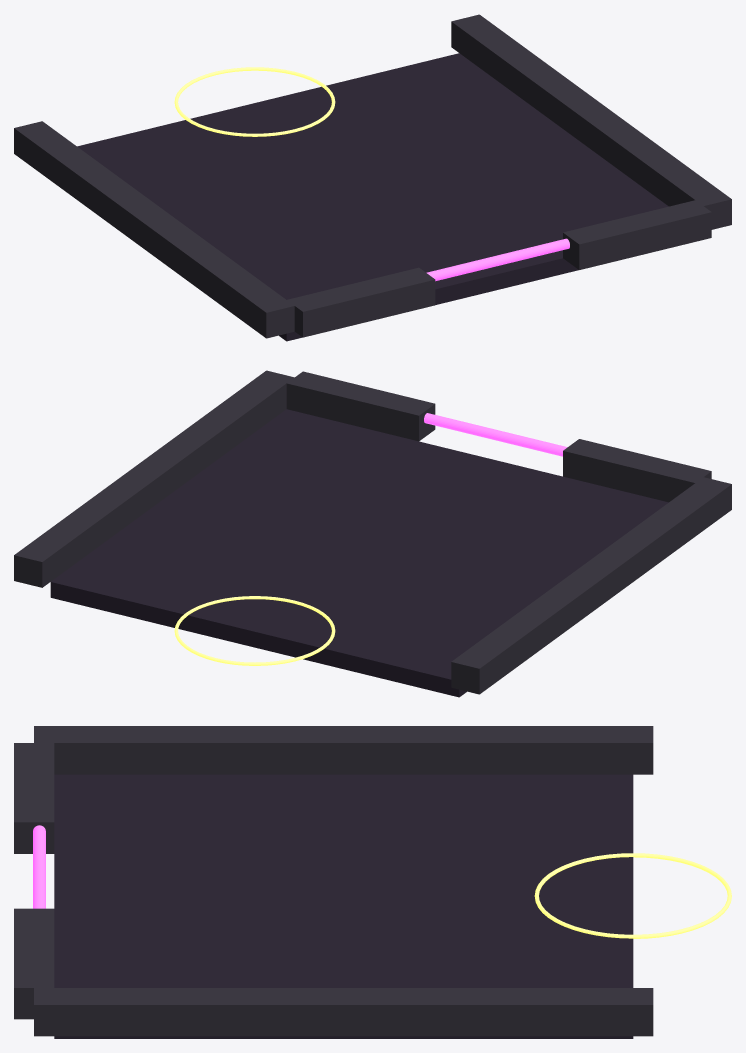
Rendered from mesa_kiara_cat_half_p1.glb.
3 renders of one model, top to bottom at view 1: azimuth 30°, elevation 25°; view 2: azimuth 150°, elevation 25°; view 3: azimuth 270°, elevation 25°, orthographic. The views are drawn at different scales.
Parts seen in each view (by area): view 1: mesa_kiara_cat_half_p1_Surface, Cube, Cube.002, Cube.005, Cube.004, Cylinder, Torus; view 2: mesa_kiara_cat_half_p1_Surface, Cube, Cube.002, Cube.005, Cube.004, Cylinder, Torus; view 3: mesa_kiara_cat_half_p1_Surface, Cube.002, Cube, Cube.004, Cube.005, Torus, Cylinder.
Boxes of the visible parts, <box> form: mesa_kiara_cat_half_p1_Surface: <box>77,53,668,341</box>; Cube: <box>14,121,294,338</box>; Cube.002: <box>451,14,731,229</box>; Cube.005: <box>563,200,711,269</box>; Cube.004: <box>287,267,435,337</box>; Cylinder: <box>426,238,569,281</box>; Torus: <box>174,67,335,136</box>; mesa_kiara_cat_half_p1_Surface: <box>50,409,668,697</box>; Cube: <box>451,477,731,694</box>; Cube.002: <box>14,370,294,587</box>; Cube.005: <box>286,371,435,441</box>; Cube.004: <box>563,439,711,502</box>; Cylinder: <box>424,413,567,456</box>; Torus: <box>174,596,335,665</box>; mesa_kiara_cat_half_p1_Surface: <box>54,774,633,1038</box>; Cube.002: <box>34,988,653,1036</box>; Cube: <box>34,726,653,774</box>; Cube.004: <box>14,743,54,853</box>; Cube.005: <box>14,908,54,1019</box>; Torus: <box>534,853,731,938</box>; Cylinder: <box>33,825,45,908</box>.
Bounding box in the file's own units: 1.23 × 0.105 × 1.34.
